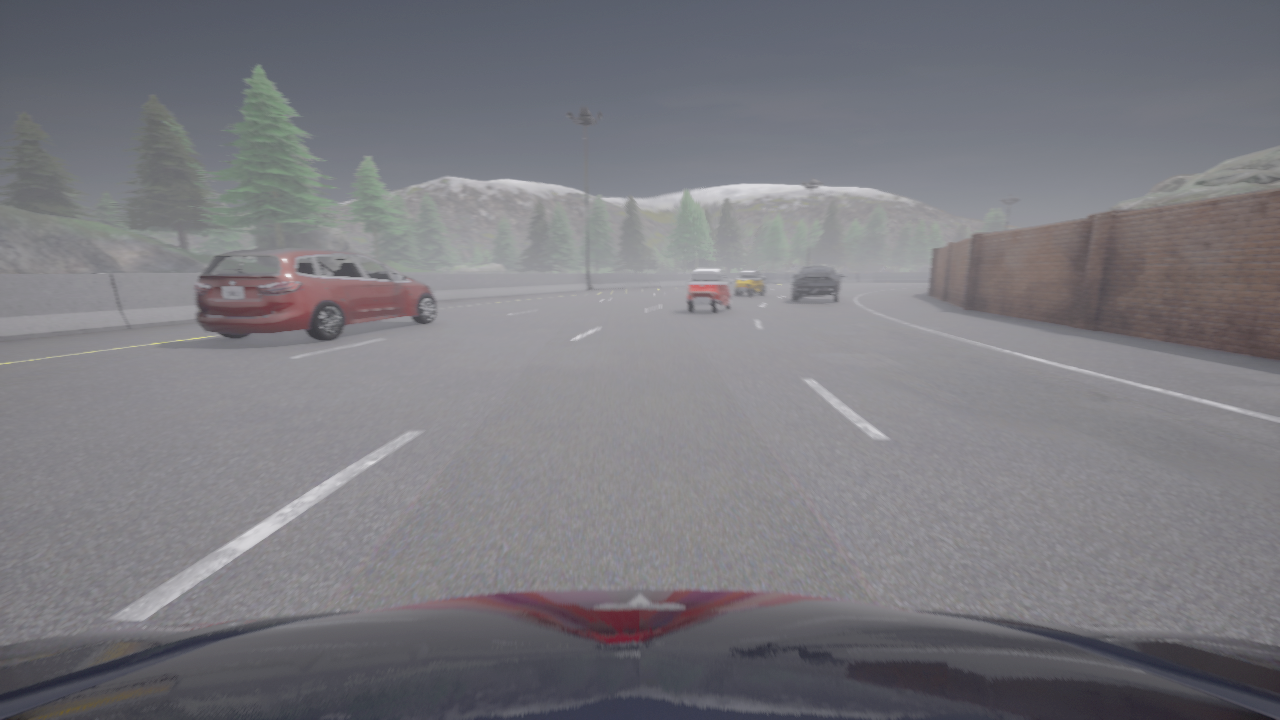cyclist: (0, 588, 1279, 719), (195, 247, 437, 340), (687, 268, 732, 313), (792, 265, 844, 302), (734, 270, 764, 295)
